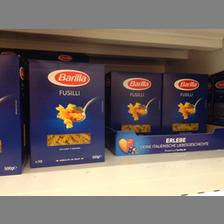Nudeln: (26, 56, 106, 168), (105, 69, 163, 134), (160, 72, 208, 134)
